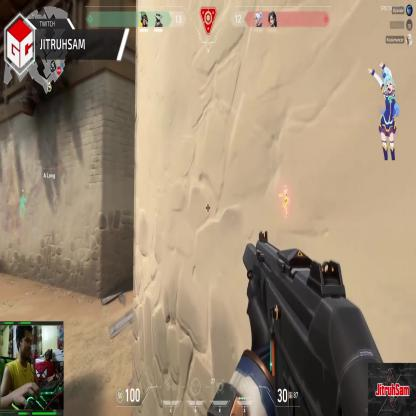enemy: (278, 185, 289, 218)
enemy_head: (284, 186, 286, 192)
